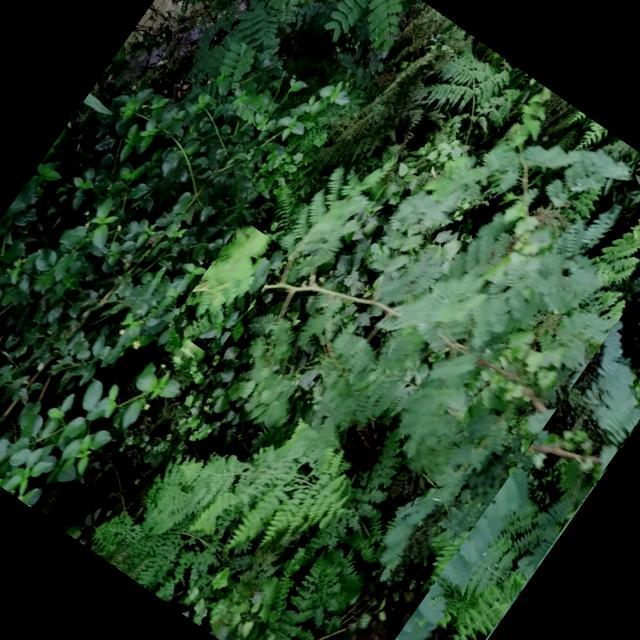Mysore-Thorn-Weed: (189, 34, 640, 555), (368, 313, 640, 640), (167, 218, 288, 358), (262, 0, 423, 82), (184, 27, 296, 131), (164, 0, 350, 60)
